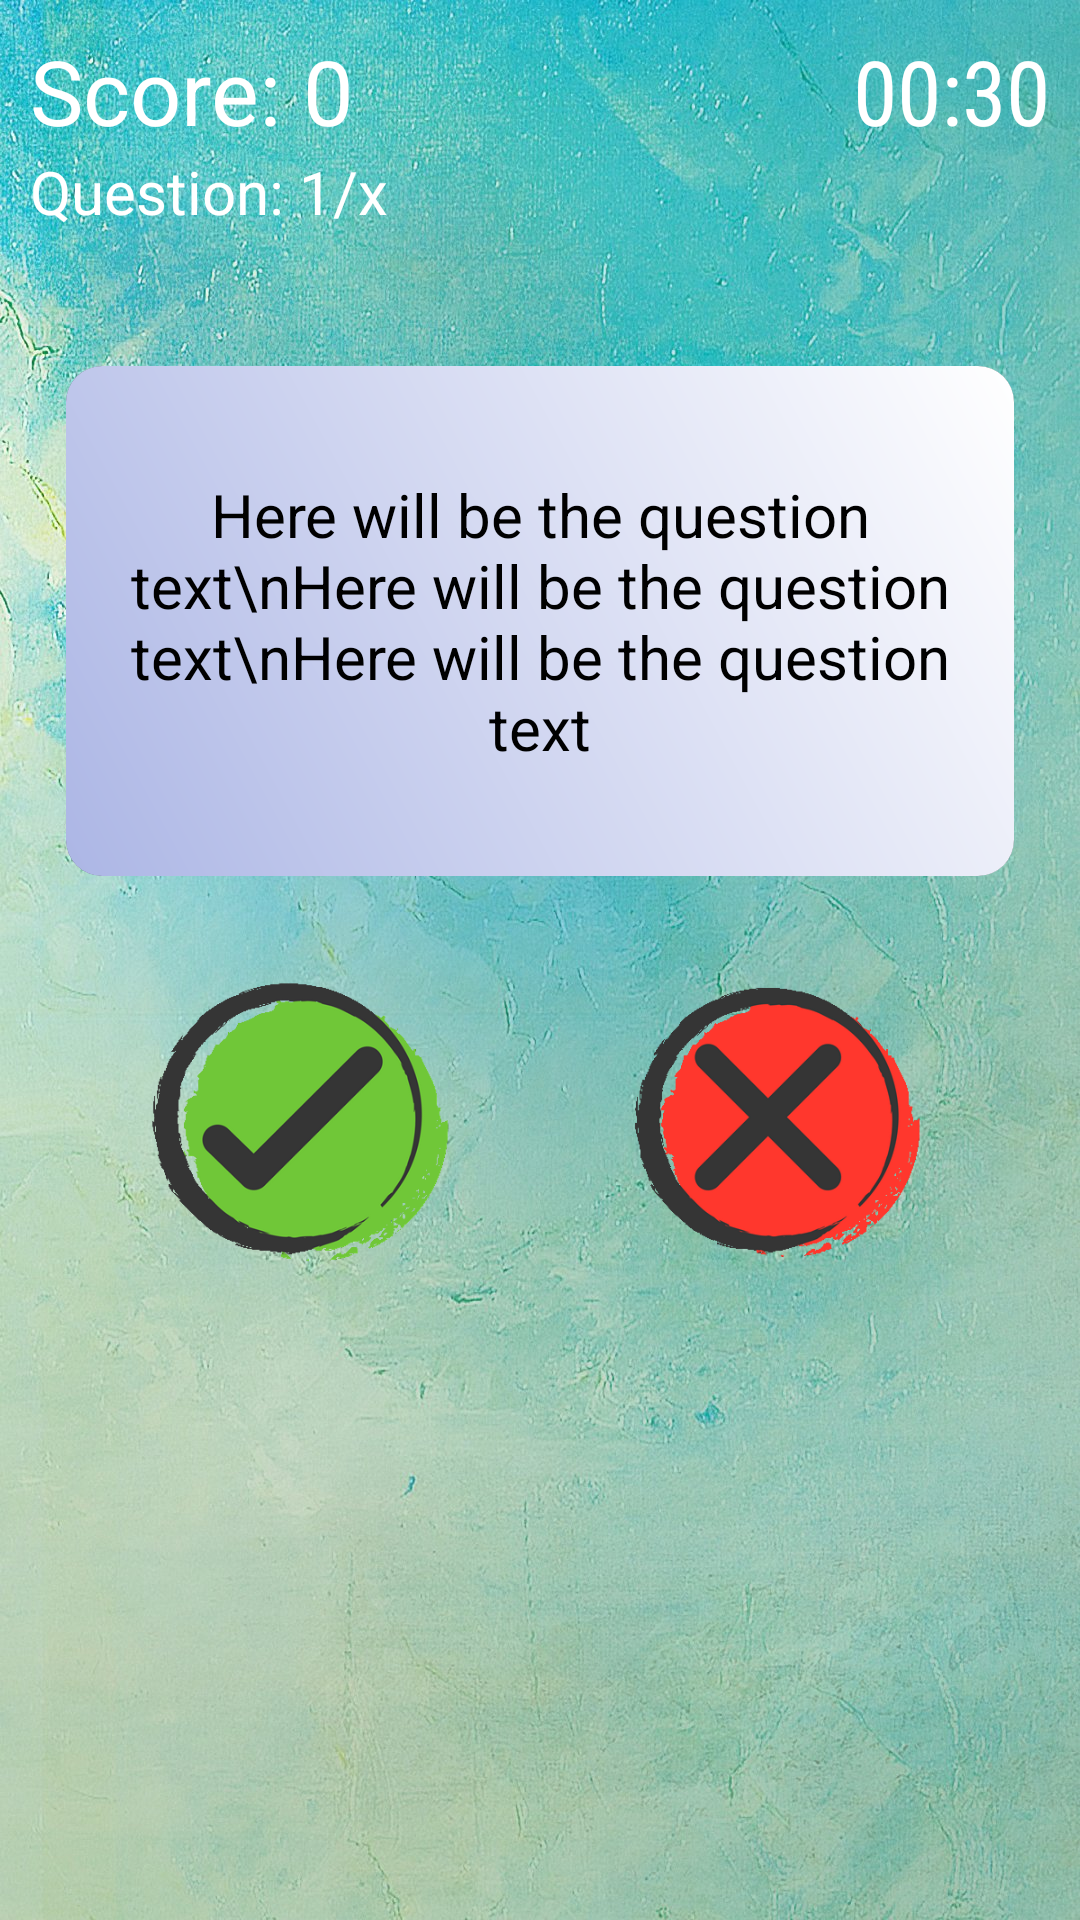

Icons on this 1080w x 1920h Android screen, each with the point to tap as [x,y]:
fal: [780,1122]
tru: [300,1122]
